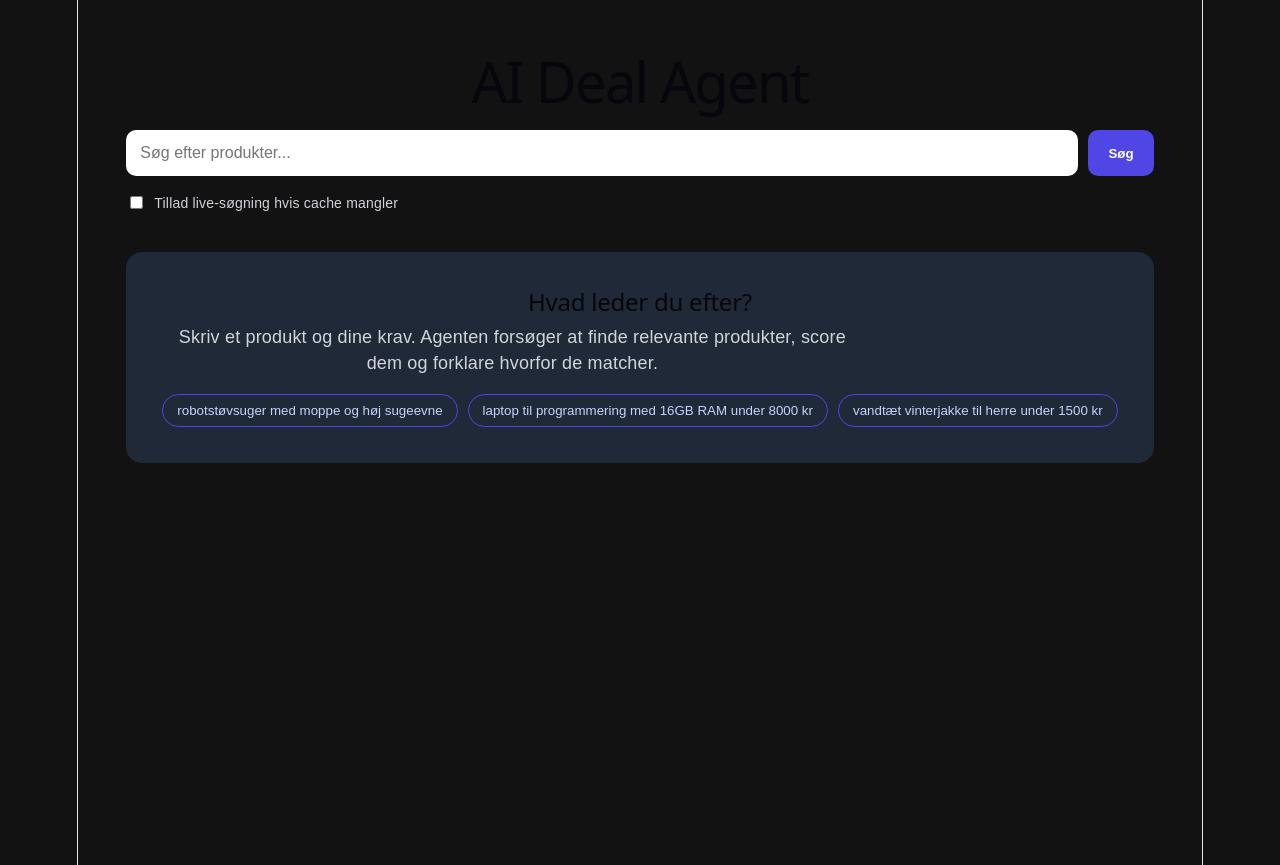
App › saves the current search once and shows it in the saved searches panel
Type "robotstøvsuger med moppe under 5000 kr" into the field with placeholder "Søg efter produkter..." at x=602, y=153, box [126, 130, 1078, 176]
Then press Enter
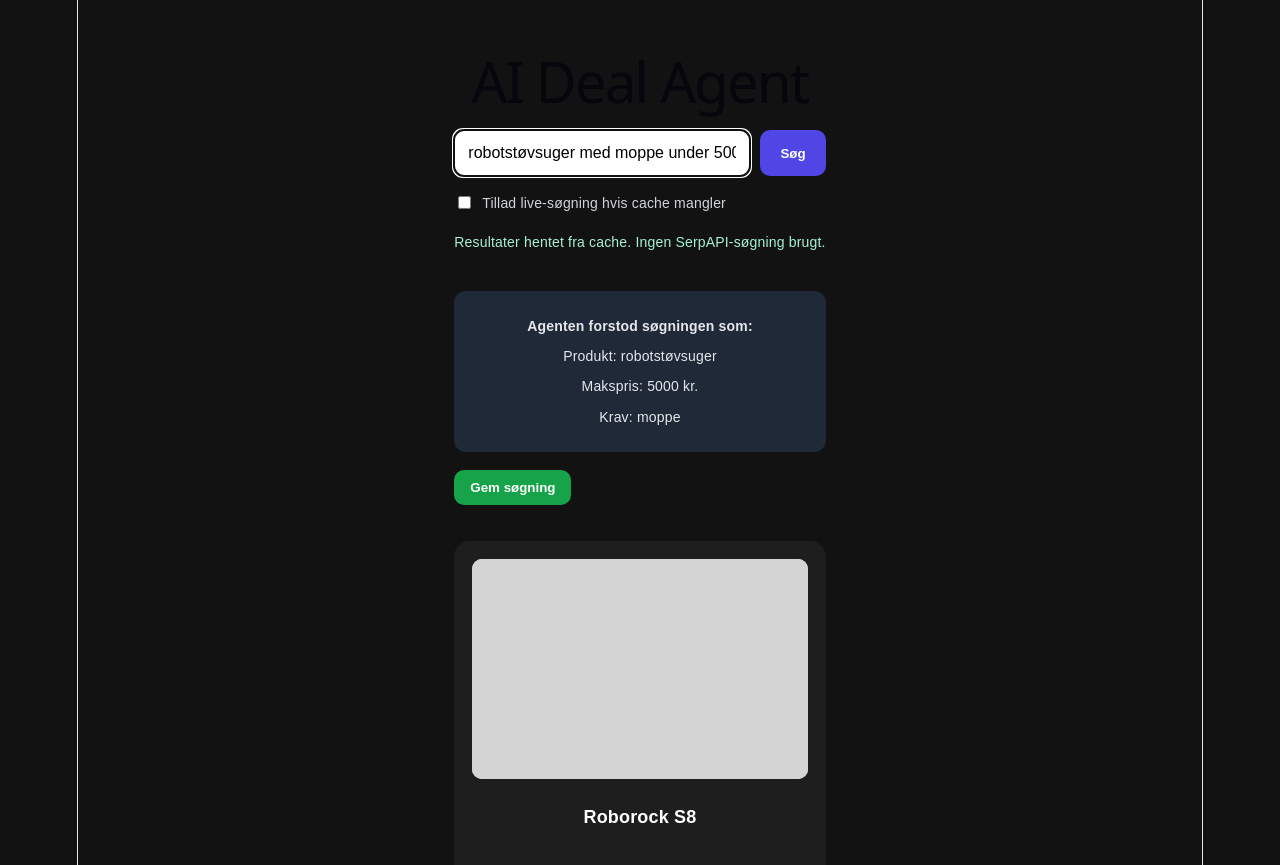
Click the button "Gem søgning" at x=513, y=487, box [454, 470, 572, 505]
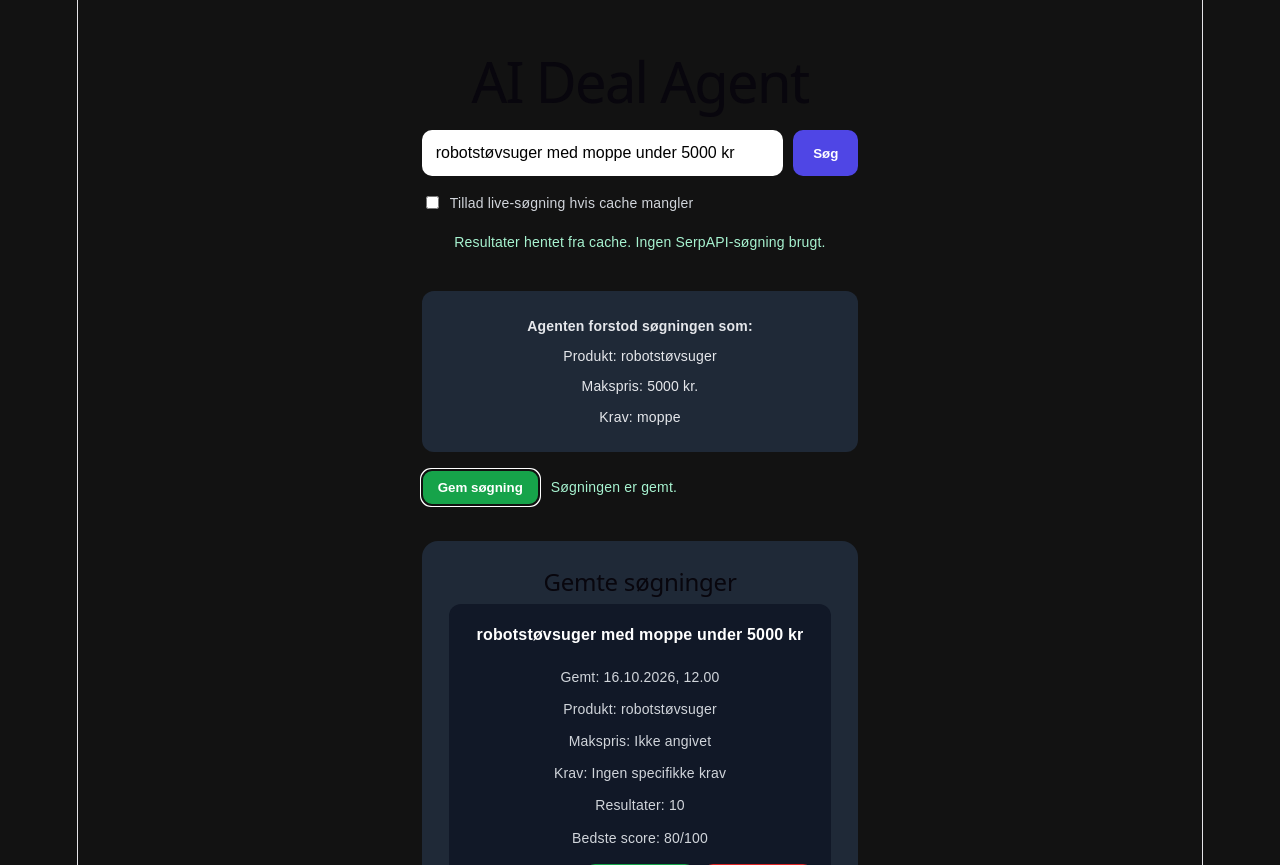
Now the text "Søgningen er gemt." is shown, box [551, 474, 677, 500]
Now the heading "robotstøvsuger med moppe under 5000 kr" is shown, box [467, 622, 813, 648]
Click the button "Gem søgning" at x=480, y=487, box [422, 470, 539, 505]
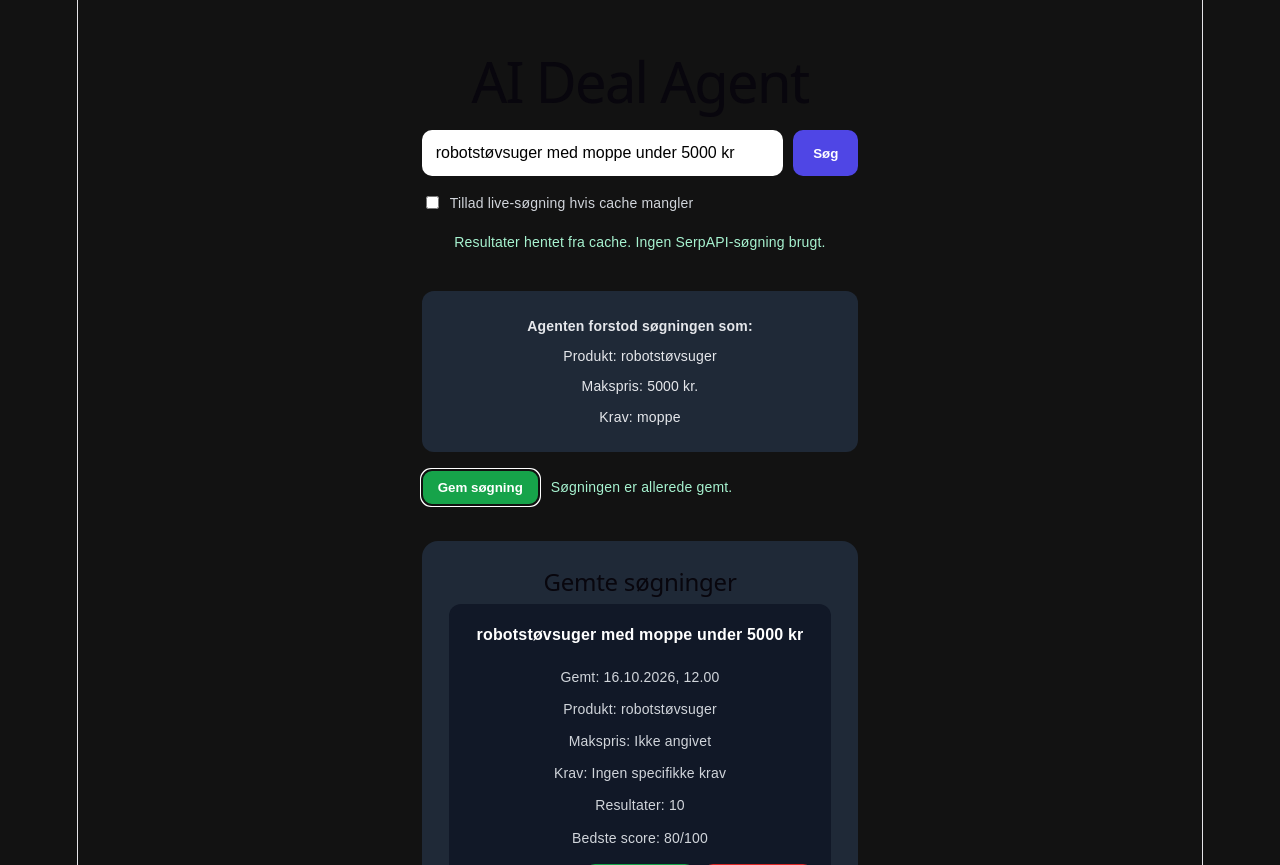
Now the text "Søgningen er allerede gemt." is shown, box [551, 474, 732, 500]
